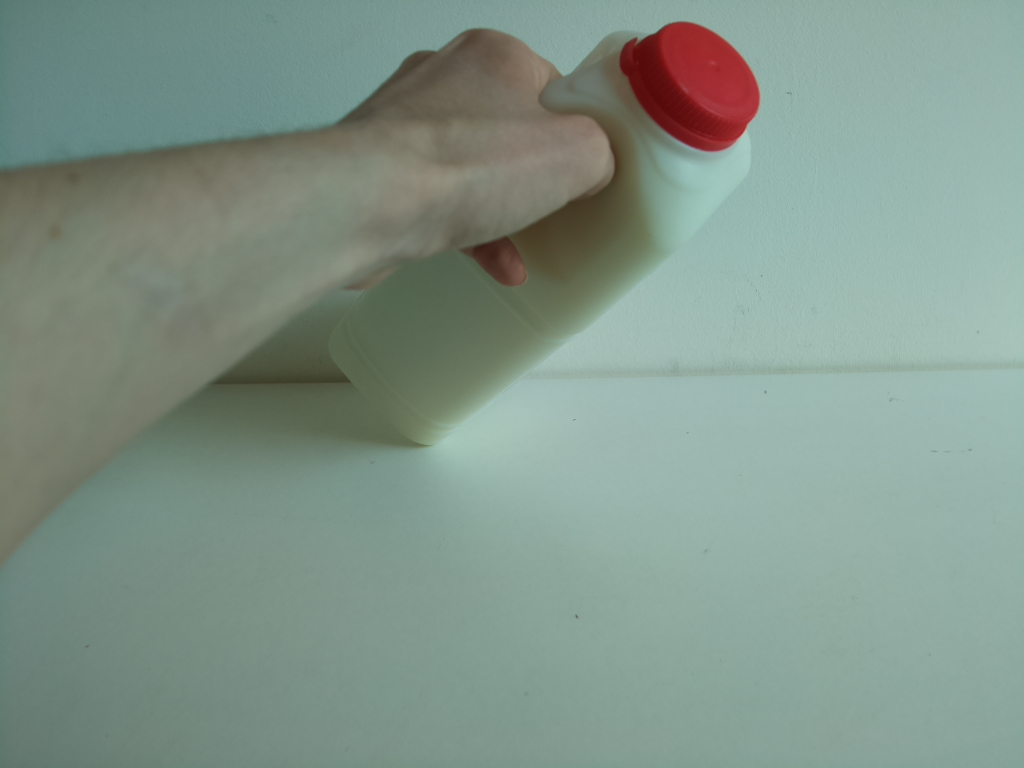milk: (310, 19, 761, 454)
